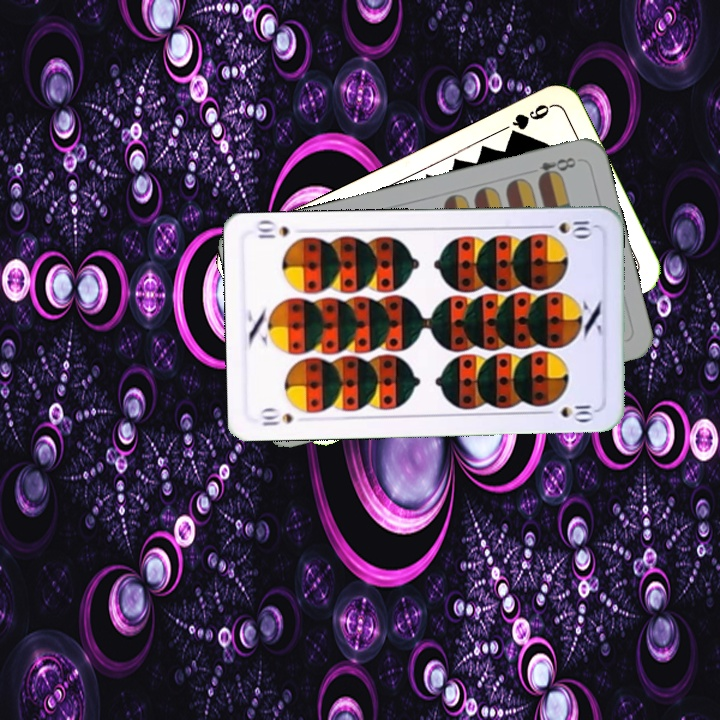E8: (534, 153, 579, 183)
G9: (504, 100, 555, 142)
S10: (538, 216, 597, 239), (257, 405, 296, 428)
